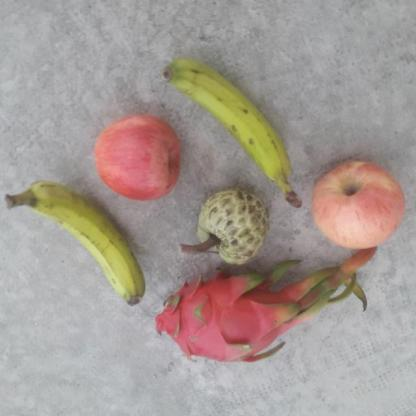annona: (194, 186, 269, 266)
apple: (310, 154, 406, 250), (92, 112, 184, 202)
banana: (156, 56, 309, 214), (1, 167, 147, 306)
pitaya: (156, 262, 296, 364)
